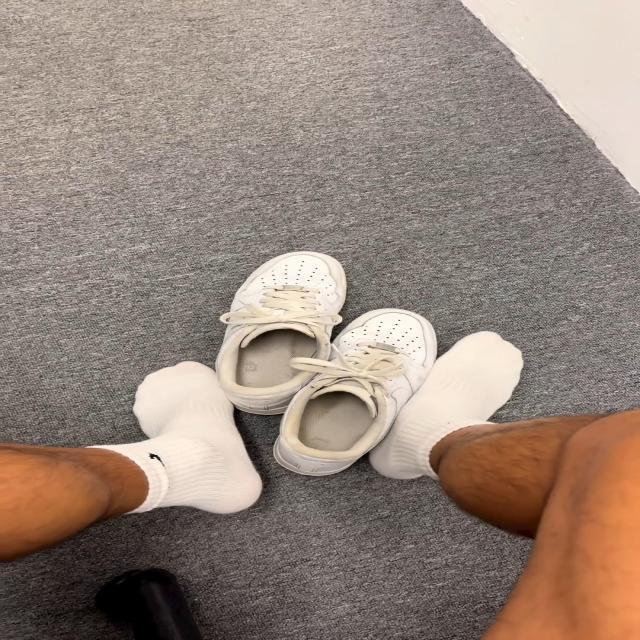nike original air force: (278, 308, 448, 480), (212, 246, 356, 414)
